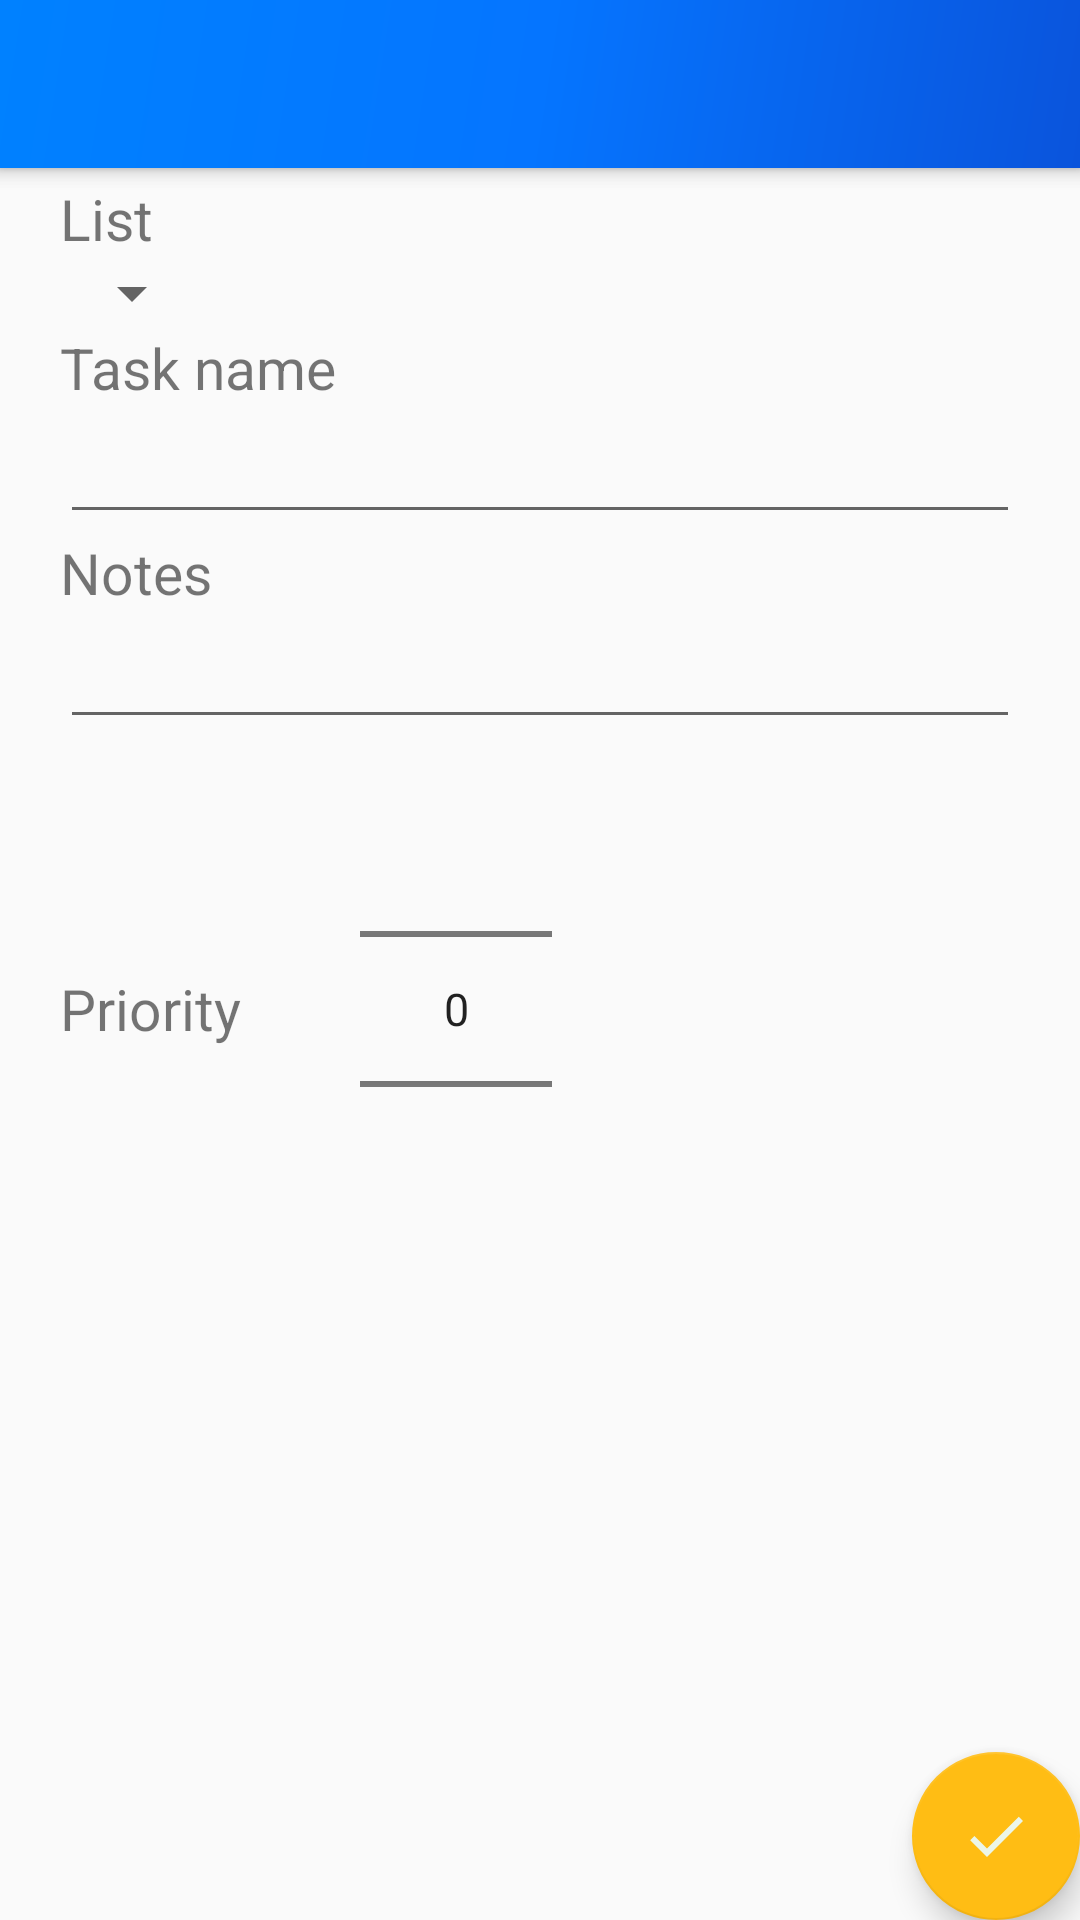

Where to tap for icons on this 1080x1920 app screen, as (x,y):
done: (996,1836)
